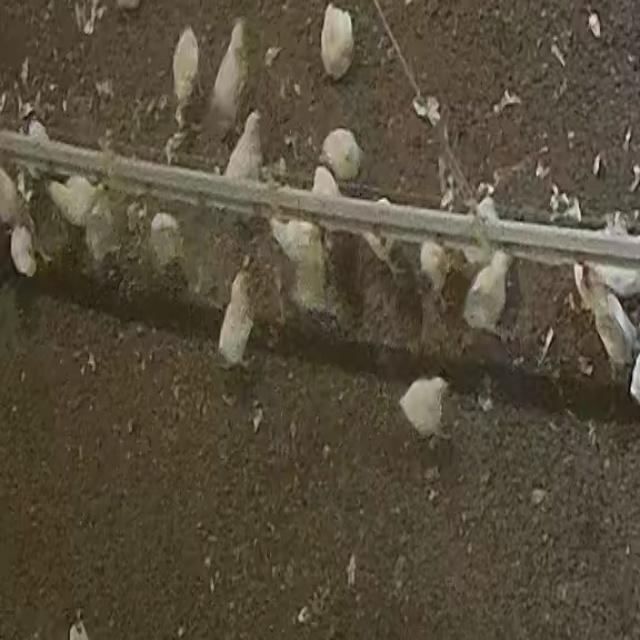chicken: (574, 264, 636, 370), (208, 17, 253, 128), (580, 216, 640, 298), (463, 251, 515, 337), (217, 268, 258, 370), (398, 376, 452, 434), (296, 227, 332, 314), (44, 174, 99, 230), (223, 110, 264, 183), (171, 26, 200, 121), (320, 2, 354, 80), (268, 216, 334, 255), (320, 127, 362, 181), (84, 198, 119, 262), (149, 213, 183, 276), (418, 239, 452, 297), (24, 114, 54, 174), (9, 223, 38, 277), (0, 162, 22, 223), (310, 165, 341, 200)
